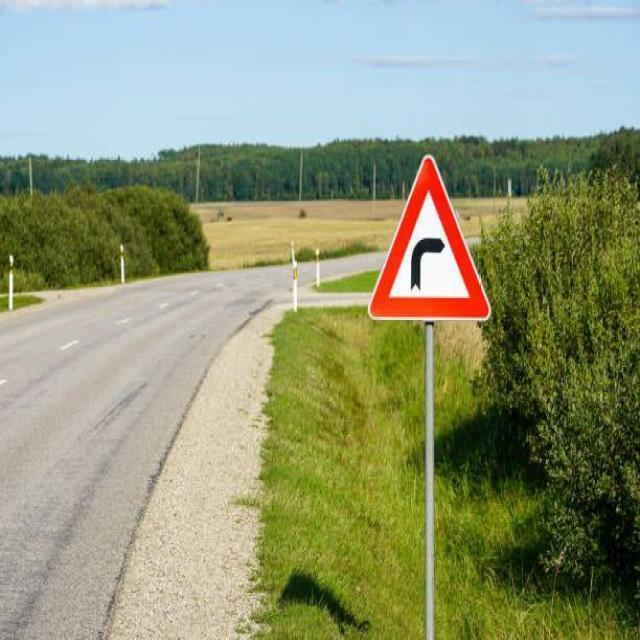right hand curve: (368, 153, 492, 322)
